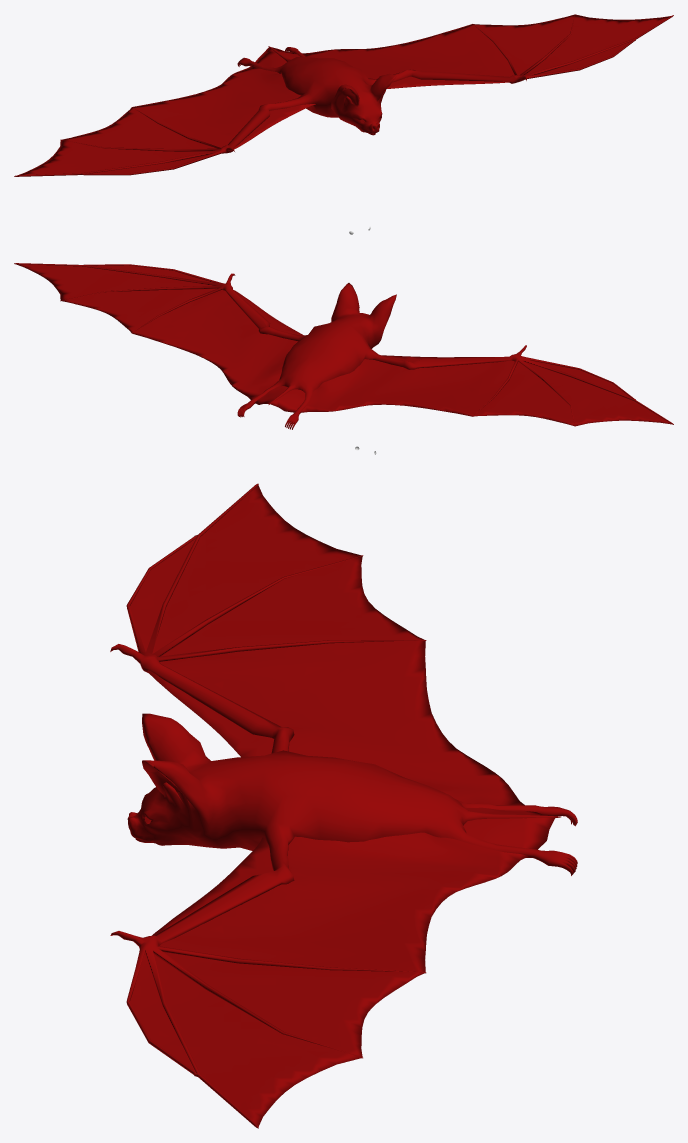
Rendered from bat.dae.
3 views of the same model, one above another, from view 1: azimuth 30°, elevation 25°; view 2: azimuth 150°, elevation 25°; view 3: azimuth 270°, elevation 25° (orthographic). The views are drawn at different scales.
Parts seen in each view (by area): view 1: bat_body; view 2: bat_body; view 3: bat_body.
Boxes of the visible parts, left/top/right/bottom form: bat_body: left=14, top=14, right=673, bottom=176; bat_body: left=14, top=263, right=673, bottom=429; bat_body: left=110, top=483, right=577, bottom=1128.
Size of the model in its own units: 0.2199 by 0.0675 by 0.0498.
